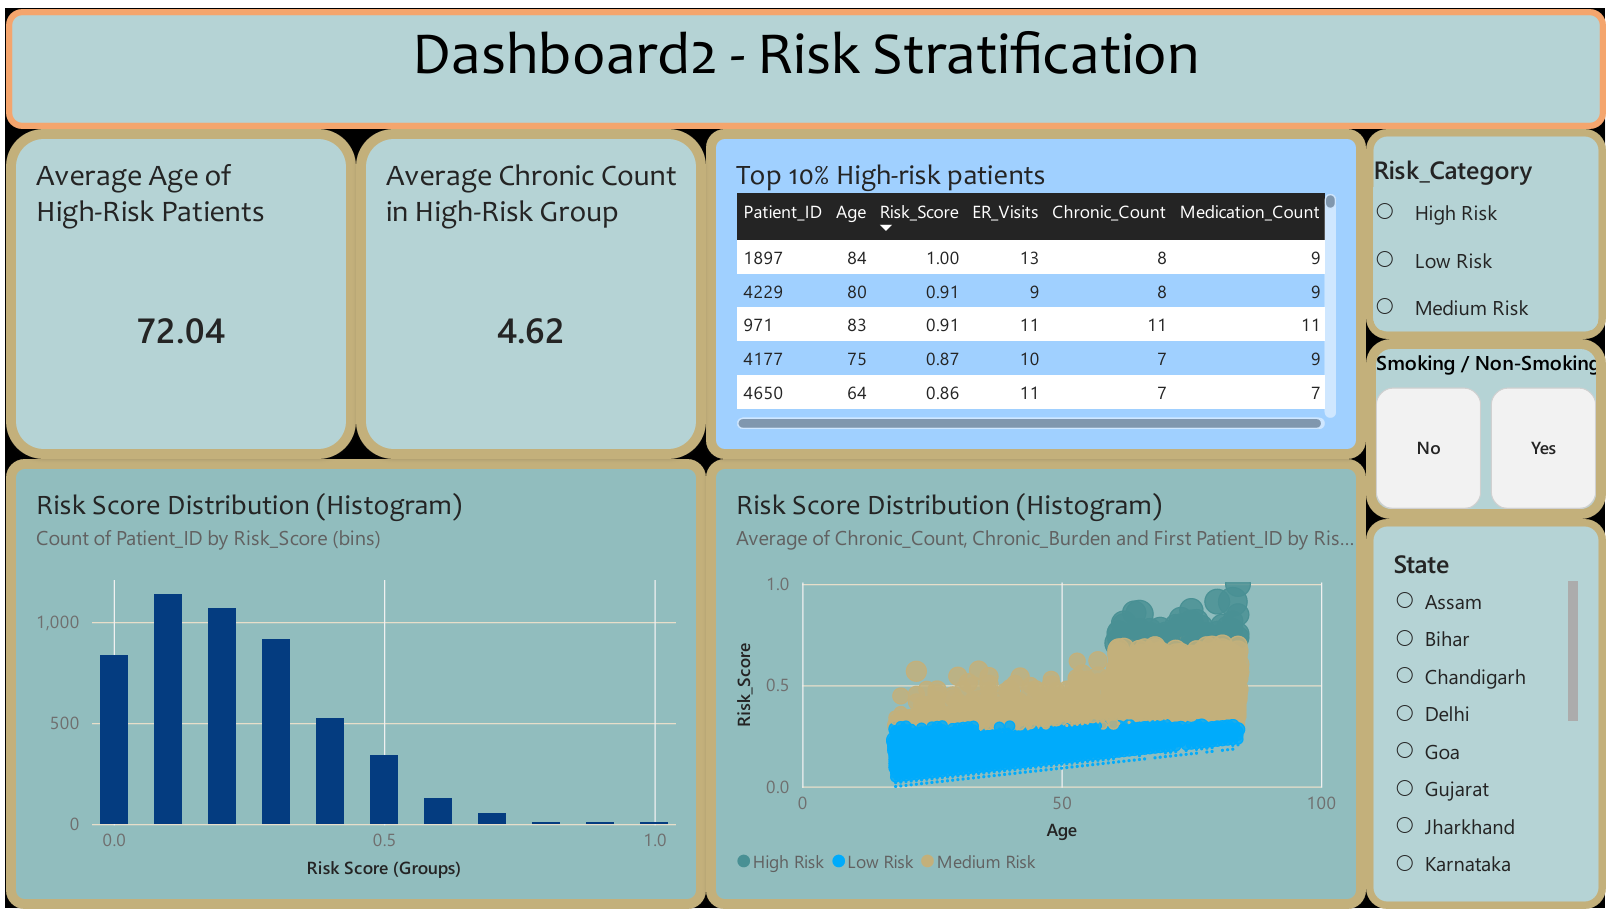

The page's visual inventory and layout, read from the dashboard file:
{"tool":"powerbi","page":{"name":"Dashboard 2 - Risk Stratification","canvas":[1280,720],"ordinal":1},"visuals":[{"type":"clusteredColumnChart","title":"Risk Score Distribution (Histogram)","fields":{"Category":["Risk_Stratification.Risk_Score (bins)"],"Y":["CountNonNull(Risk_Stratification.Patient_ID)"]},"box":[0,360,560,360],"z":0},{"type":"scatterChart","title":"Risk Score Distribution (Histogram)","fields":{"Y":["Risk_Stratification.Risk_Score"],"Series":["Risk_Stratification.Risk_Category"],"Size":["Avg(Risk_Stratification.Chronic_Count)"],"X":["Risk_Stratification.Age"]},"box":[560,360,528,360],"z":1000},{"type":"tableEx","title":" Top 10% High-risk patients ","fields":{"Values":["Risk_Stratification.Patient_ID","Risk_Stratification.Age","Risk_Stratification.Risk_Score","Risk_Stratification.ER_Visits","Risk_Stratification.Chronic_Count","Risk_Stratification.Medication_Count"]},"box":[560,96,528,264],"z":2000},{"type":"listSlicer","fields":{"Values":["Region_Lookup.State"]},"box":[1088,408,192,312],"z":3000},{"type":"listSlicer","fields":{"Values":["Risk_Stratification.Risk_Category"]},"box":[1088,96,192,168],"z":4000},{"type":"card","title":"Average Age of High-Risk Patients","fields":{"Values":["Risk_Stratification.Avg_Age_High_Risk"]},"box":[0,96,280,264],"z":5000},{"type":"card","title":"Average Chronic Count in High-Risk Group","fields":{"Values":["Risk_Stratification.Avg_Chronic_High_Risk"]},"box":[280,96,280,264],"z":6000},{"type":"textbox","box":[0,0,1280,96],"z":7000},{"type":"advancedSlicerVisual","title":"Smoking / Non-Smoking","fields":{"Values":["Risk_Stratification.Smoking_Status"]},"box":[1088,264,192,144],"z":8000}]}

Visuals, with their boxes in screenshot pixels (x1, y1, x2, y2), scaled from the page's 1280x720 canvas onto the 1612x917 screenshot:
"Risk Score Distribution (Histogram)" clusteredColumnChart: crop(0, 458, 705, 916)
"Risk Score Distribution (Histogram)" scatterChart: crop(705, 458, 1370, 916)
" Top 10% High-risk patients " tableEx: crop(705, 122, 1370, 458)
listSlicer - Region_Lookup.State: crop(1370, 520, 1611, 916)
listSlicer - Risk_Stratification.Risk_Category: crop(1370, 122, 1611, 336)
"Average Age of High-Risk Patients" card: crop(0, 122, 353, 458)
"Average Chronic Count in High-Risk Group" card: crop(353, 122, 705, 458)
textbox: crop(0, 0, 1611, 122)
"Smoking / Non-Smoking" advancedSlicerVisual: crop(1370, 336, 1611, 520)
